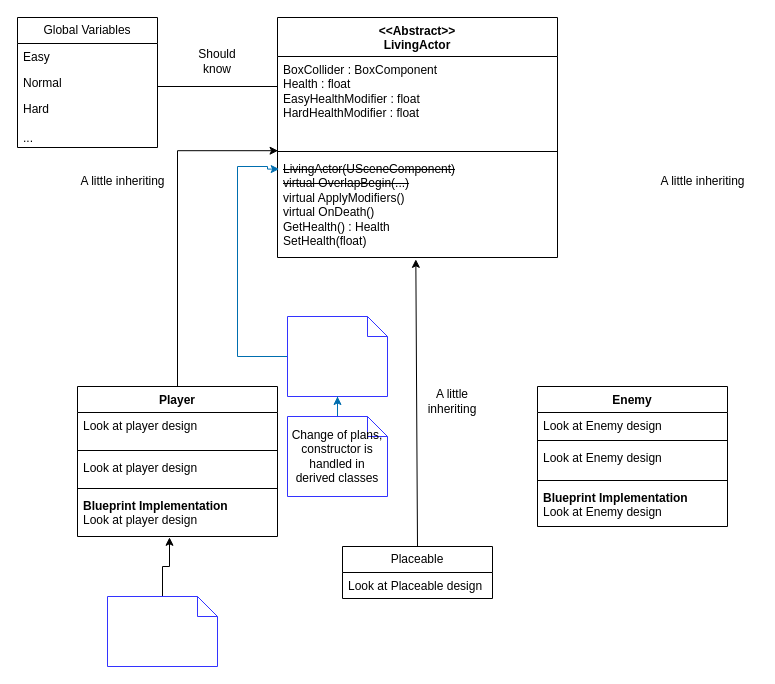
This 775x684 diagram has some shape labels left out. Each missing label, with the centre of its shape:
"Player is in place of Castle now" belongs at (x=162, y=631).
"The constructor will handle the RootComponent" belongs at (x=337, y=356).
